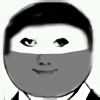dragon: (19, 36, 70, 77)
